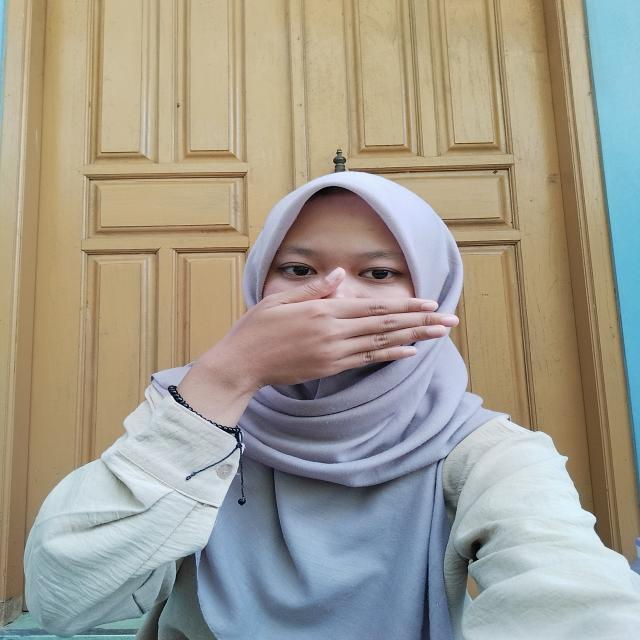buruk: (170, 267, 461, 424)
